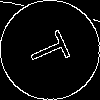T: (25, 25, 79, 72)
